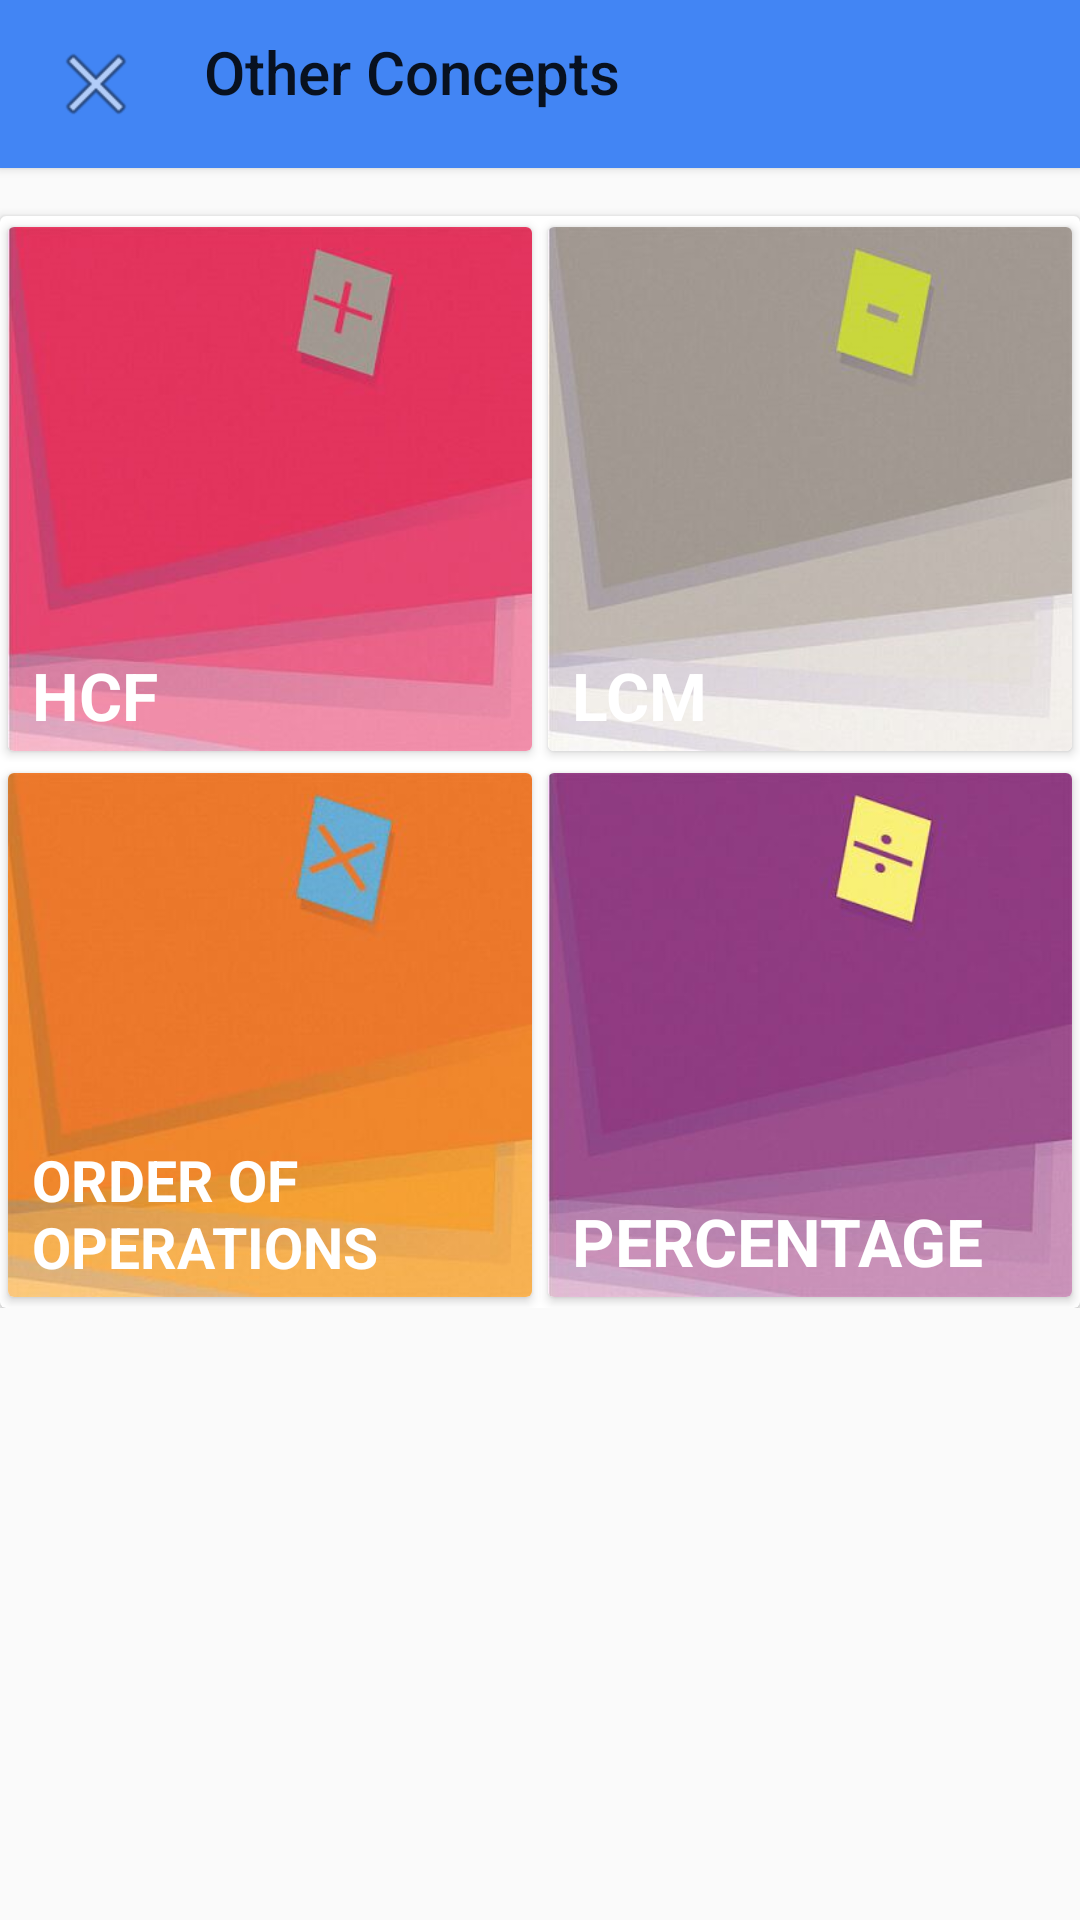

Named icons in this screenshot (1080w x 1920h) and their centers, point (x, y):
close clear cancel: point (96, 84)
